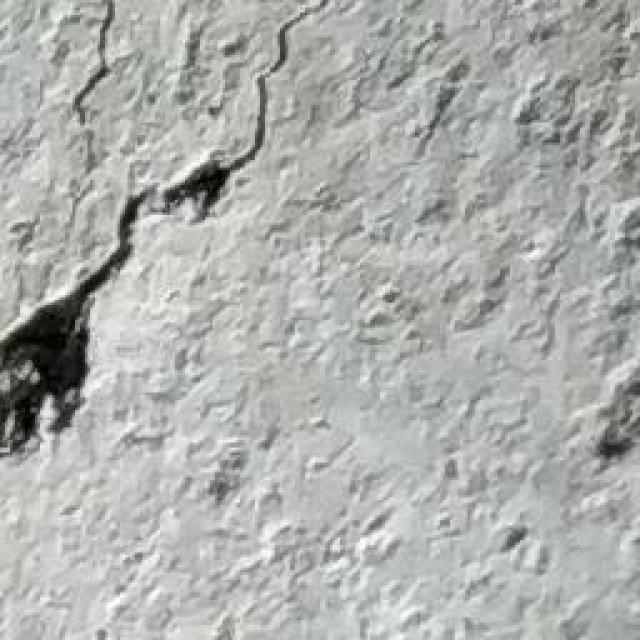Radial: (0, 7, 325, 474)
